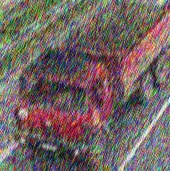truck: (11, 0, 170, 171)
